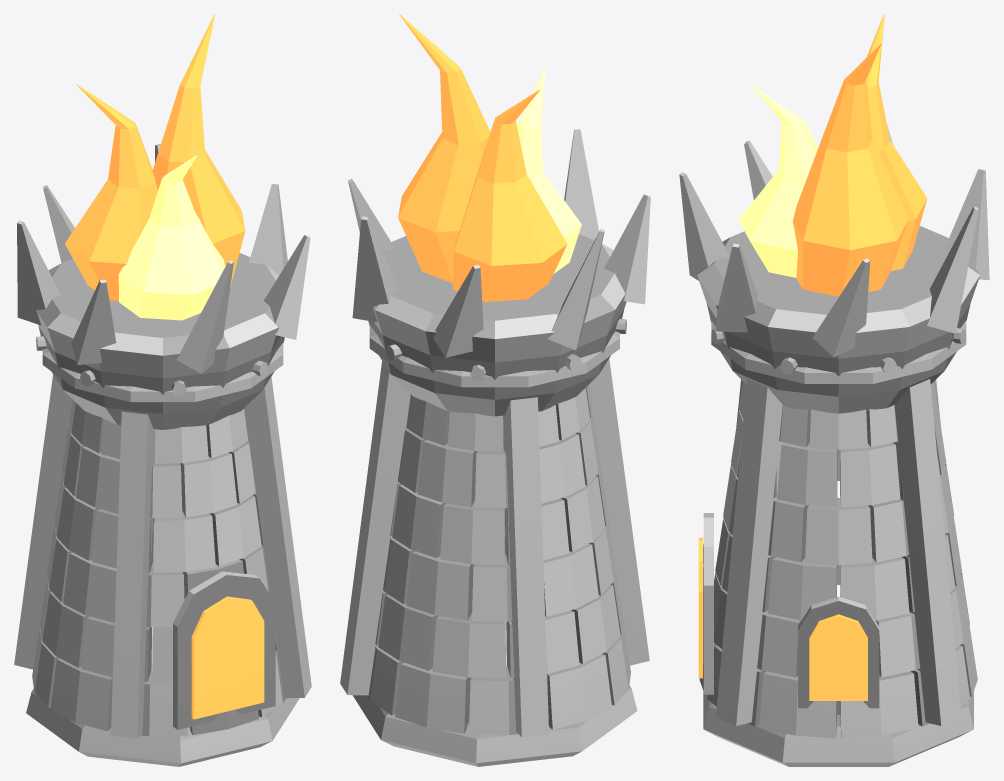
The model's file is cinder.glb.
3 views of the same model, side by side, from view 1: azimuth 30°, elevation 25°; view 2: azimuth 150°, elevation 25°; view 3: azimuth 270°, elevation 25° (orthographic). The views are drawn at different scales.
Parts seen in each view (by area): view 1: cinder.001; view 2: cinder.001; view 3: cinder.001.
Boxes of the visible parts, box(x1,y1,x2,y2) form: cinder.001: box(14, 14, 311, 766); cinder.001: box(340, 14, 650, 766); cinder.001: box(679, 14, 989, 766).
Bounding box in the file's own units: 1.29 × 3.26 × 1.29.
